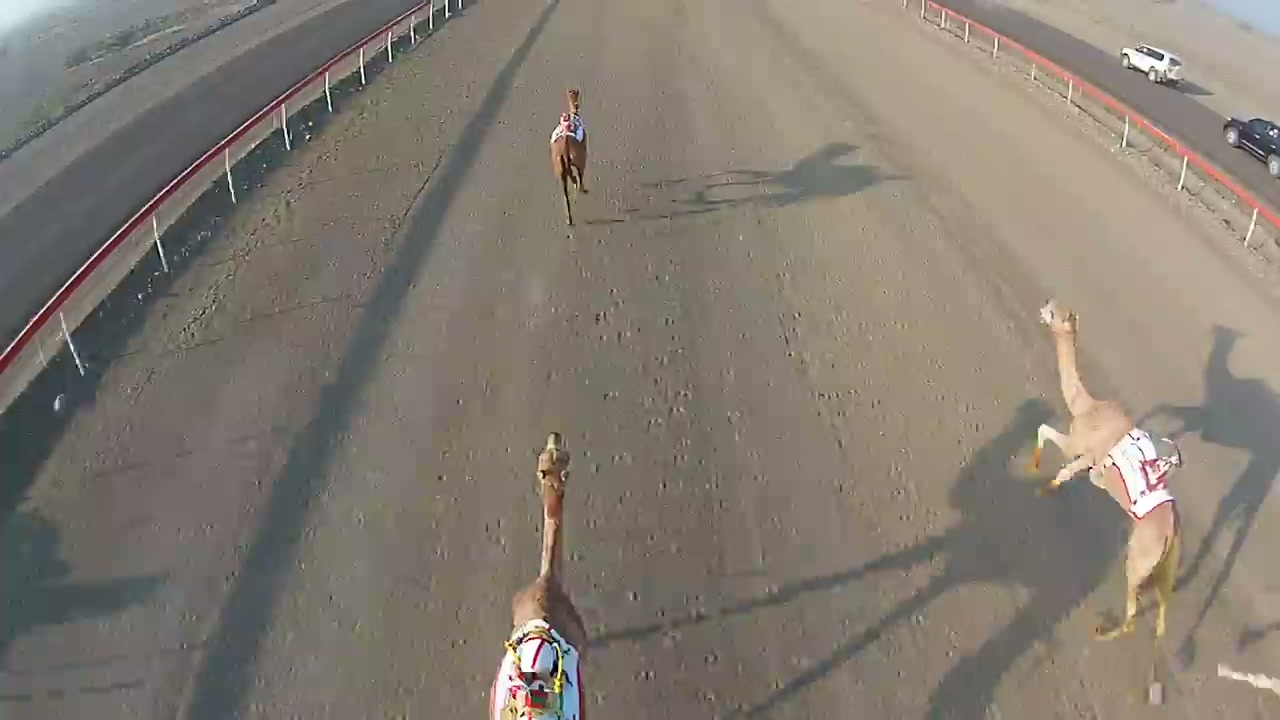animal_footprint: (564, 224, 749, 691)
